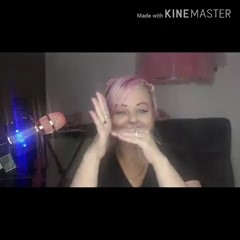Z: (86, 87, 167, 161)
